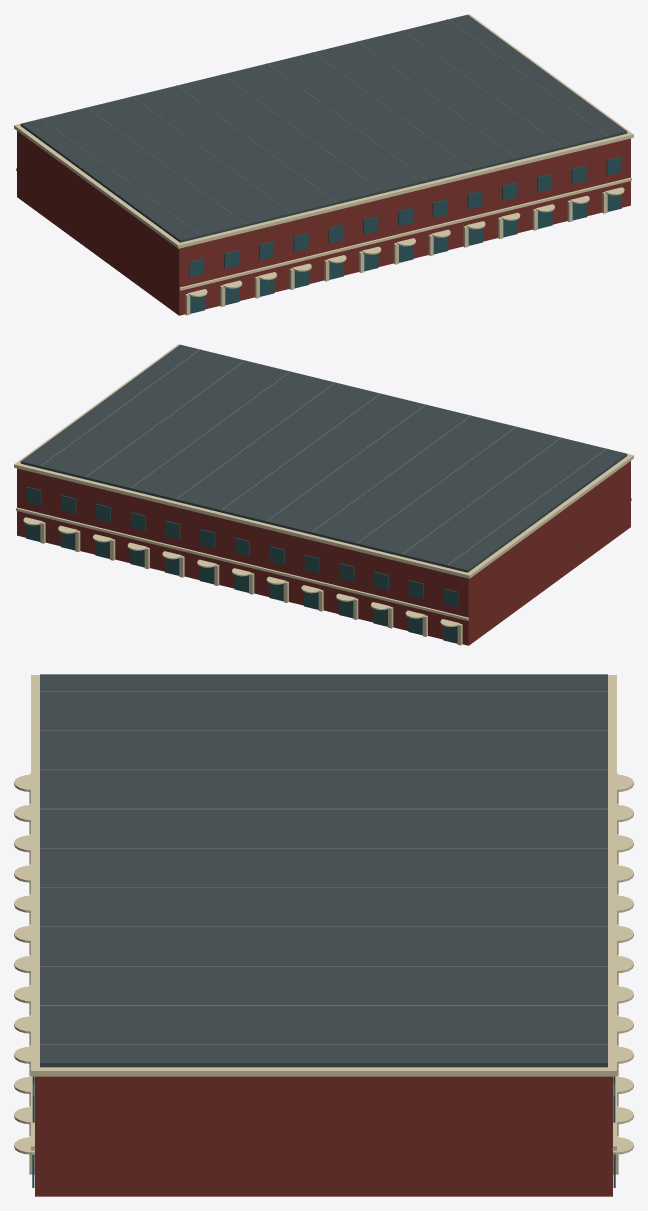
3 renders of one model, top to bottom at view 1: azimuth 30°, elevation 25°; view 2: azimuth 150°, elevation 25°; view 3: azimuth 270°, elevation 25°, orthographic. The views are drawn at different scales.
Parts seen in each view (by area): view 1: RoofDeck, HallMass, Parapet, UpperWindows, ArcadeRecess, RoofSeams, StoreyCornice, ArcadePiers, ArcadeArch; view 2: RoofDeck, HallMass, Parapet, UpperWindows, ArcadeRecess, RoofSeams, StoreyCornice, ArcadePiers, ArcadeArch; view 3: RoofDeck, HallMass, Parapet, RoofSeams, ArcadeArch, ArcadePiers.
Part boxes in pixels (box(x1,y1,x2,y2)): RoofDeck: box(20, 14, 627, 242); HallMass: box(17, 131, 630, 315); Parapet: box(14, 14, 633, 248); UpperWindows: box(189, 157, 621, 277); ArcadeRecess: box(190, 194, 621, 313); RoofSeams: box(40, 19, 606, 235); StoreyCornice: box(16, 168, 631, 290); ArcadePiers: box(185, 192, 607, 315); ArcadeArch: box(188, 187, 624, 296); RoofDeck: box(20, 344, 627, 572); HallMass: box(17, 461, 630, 645); Parapet: box(14, 344, 633, 578); UpperWindows: box(26, 487, 458, 607); ArcadeRecess: box(26, 524, 457, 643); RoofSeams: box(41, 349, 607, 565); StoreyCornice: box(16, 498, 631, 620); ArcadePiers: box(40, 522, 462, 645); ArcadeArch: box(23, 517, 459, 626); RoofDeck: box(40, 674, 607, 1067); HallMass: box(35, 1076, 612, 1196); Parapet: box(31, 675, 616, 1076); RoofSeams: box(40, 691, 607, 1045); ArcadeArch: box(14, 774, 633, 1154); ArcadePiers: box(29, 773, 618, 1174).
Size of the model in its own units: 95.55 by 14.89 by 63.22.
